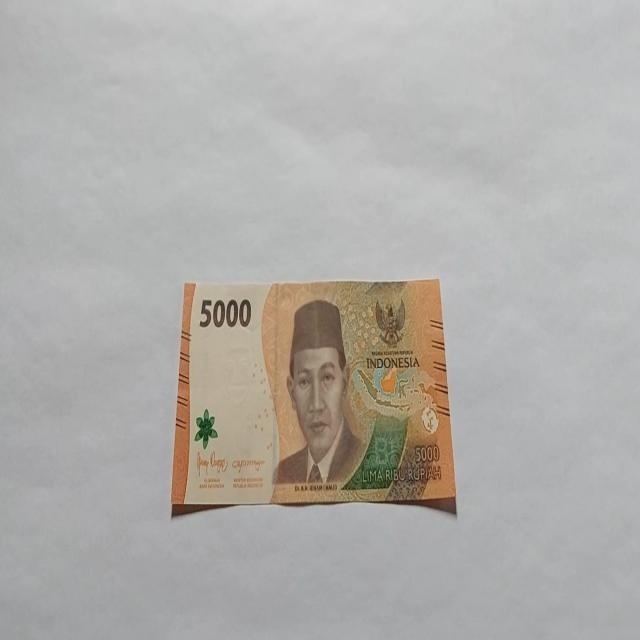lima ribu rupiah: (170, 276, 457, 518), (270, 298, 367, 489)
